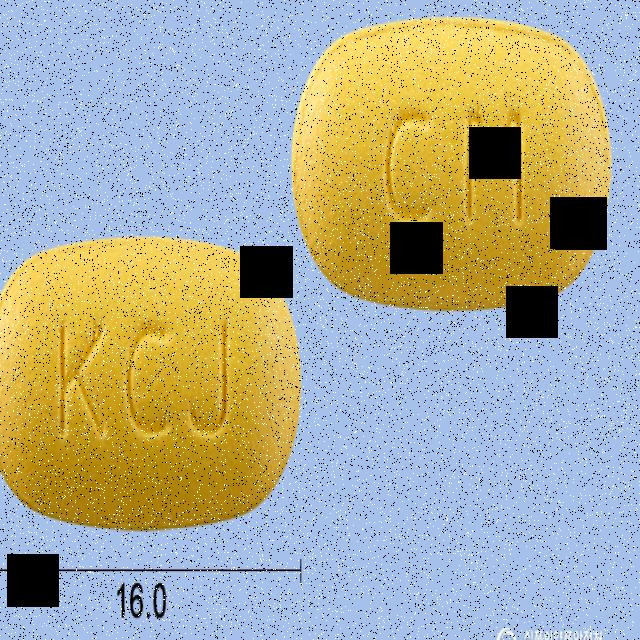Clamon Tab: (0, 224, 306, 535), (290, 17, 612, 311)
